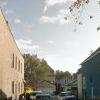Tree: (26, 37, 64, 90)
